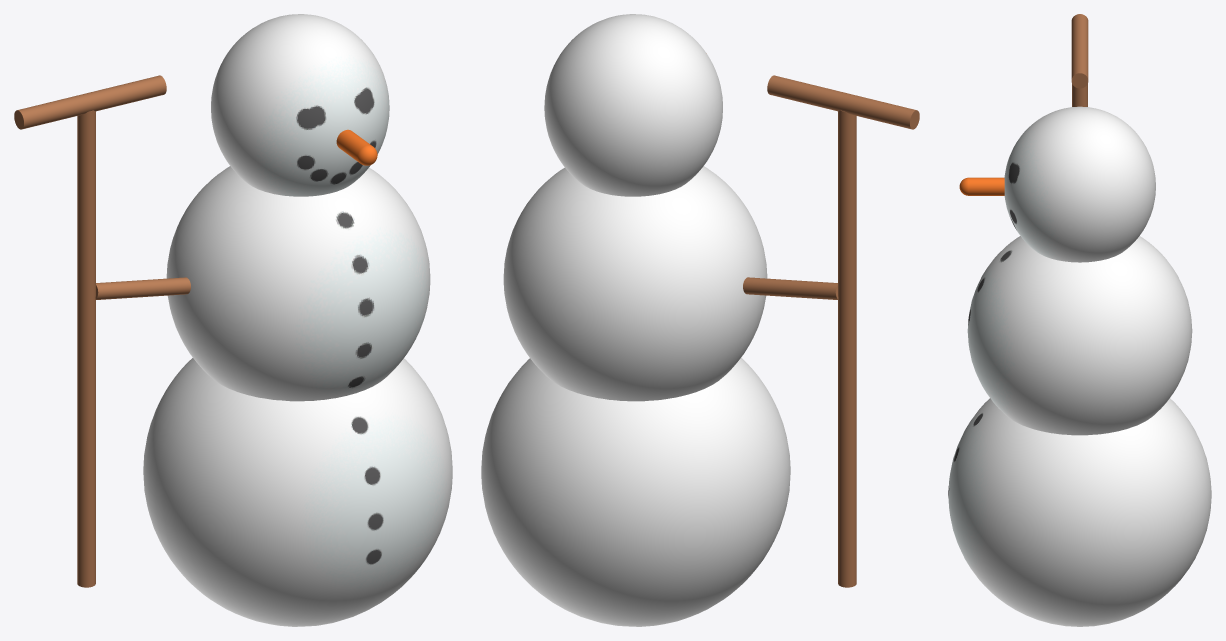
The model's file is Snowman.fbx.
3 views of the same model, side by side, from view 1: azimuth 30°, elevation 25°; view 2: azimuth 150°, elevation 25°; view 3: azimuth 270°, elevation 25° (orthographic). The views are drawn at different scales.
Parts seen in each view (by area): view 1: root (×7); view 2: root (×6); view 3: root (×5).
Part boxes in pixels (x1=…): root (×7): x1=14, y1=14, x2=452, y2=626; root (×6): x1=481, y1=14, x2=919, y2=626; root (×5): x1=948, y1=14, x2=1211, y2=626.
Bounding box in the file's own units: 215 × 293 × 139.
7 materials, 7 textured.
